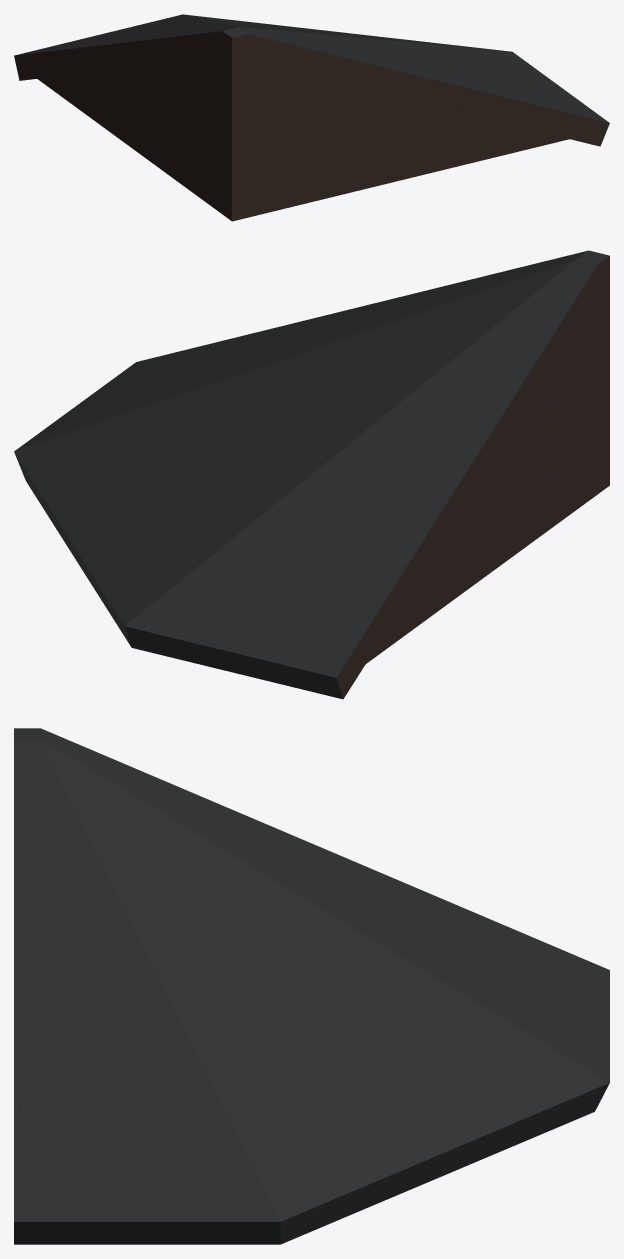
Rendered from modularBuildings_045.obj.
3 views of the same model, one above another, from view 1: azimuth 30°, elevation 25°; view 2: azimuth 150°, elevation 25°; view 3: azimuth 270°, elevation 25° (orthographic). The views are drawn at different scales.
Visible parts, largest first — view 1: Mesh1 Group1 Model; view 2: Mesh1 Group1 Model; view 3: Mesh1 Group1 Model.
Boxes of the visible parts, x1=… form: Mesh1 Group1 Model: x1=14, y1=14, x2=609, y2=221; Mesh1 Group1 Model: x1=14, y1=250, x2=609, y2=699; Mesh1 Group1 Model: x1=14, y1=728, x2=609, y2=1244.
Size of the model in its own units: 1.12 by 0.5612 by 1.12.
2 materials, 2 textured.
